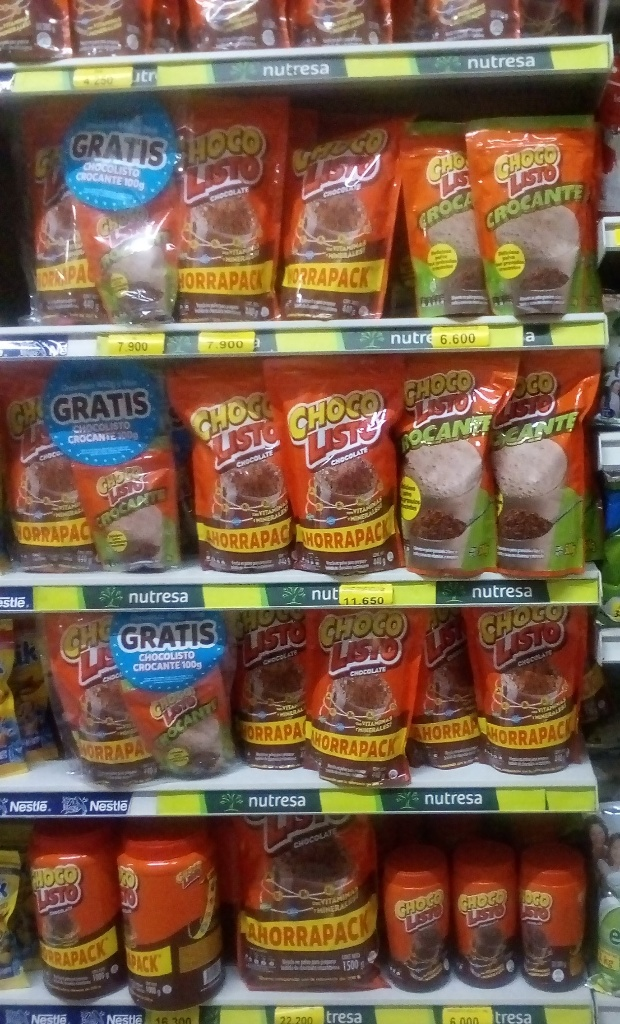COL0170102DYP10000: (75, 182, 199, 319)
COL0170102DYP25000: (393, 118, 497, 317)
COL0170102DYP50000: (396, 352, 524, 579)
COL0170103DYP1,500: (226, 810, 391, 991)
COL0170103DYP44000: (21, 86, 168, 317)
COL0170103TRR00100: (26, 815, 125, 1005)
COL0170103TRR30000: (379, 841, 459, 994)
